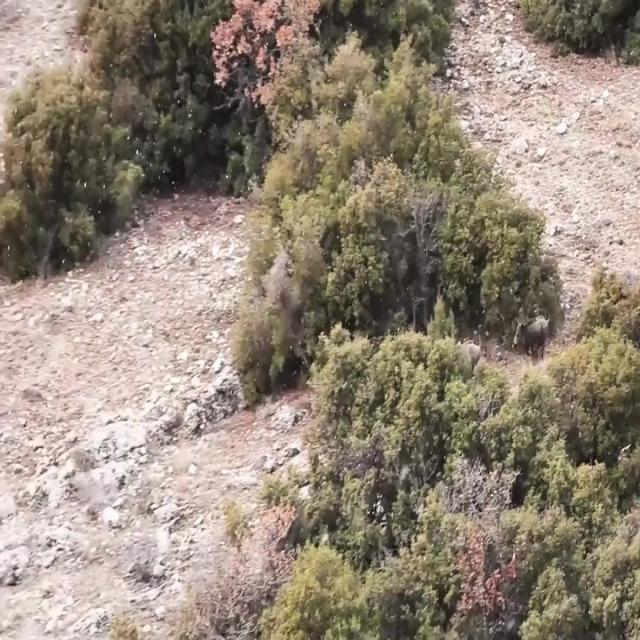pig: (507, 302, 554, 356)
